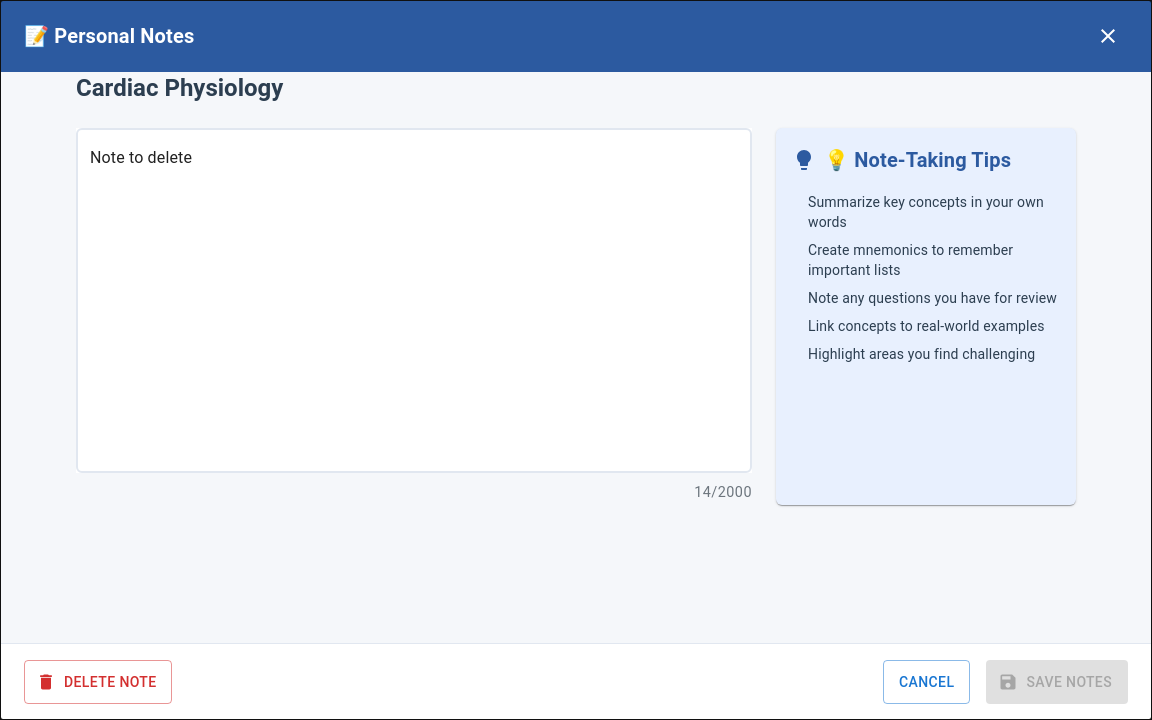
Scenario: NotesModal › Delete Functionality › should show confirmation dialog before deleting
This screenshot has width=1152, height=720.
Click the button "Delete Note": (98, 682) top-left (24, 660), bottom-right (172, 704)
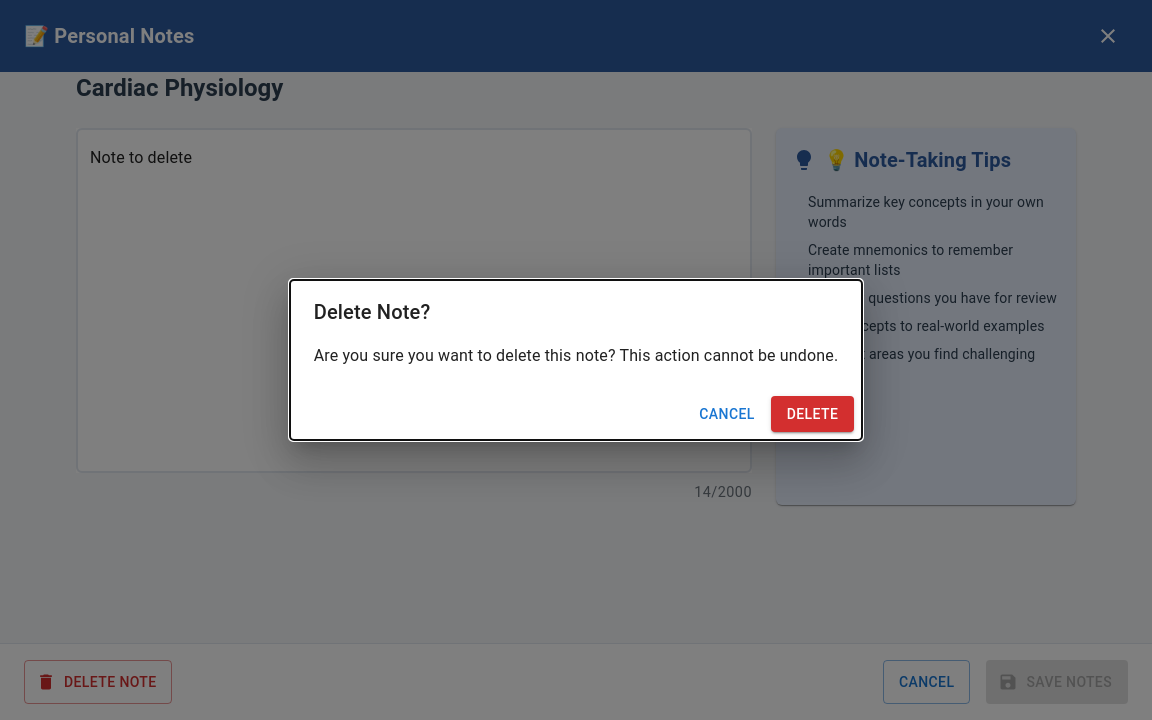
Result: the heading "Delete Note?" is shown at top-left (314, 300), bottom-right (430, 324)
